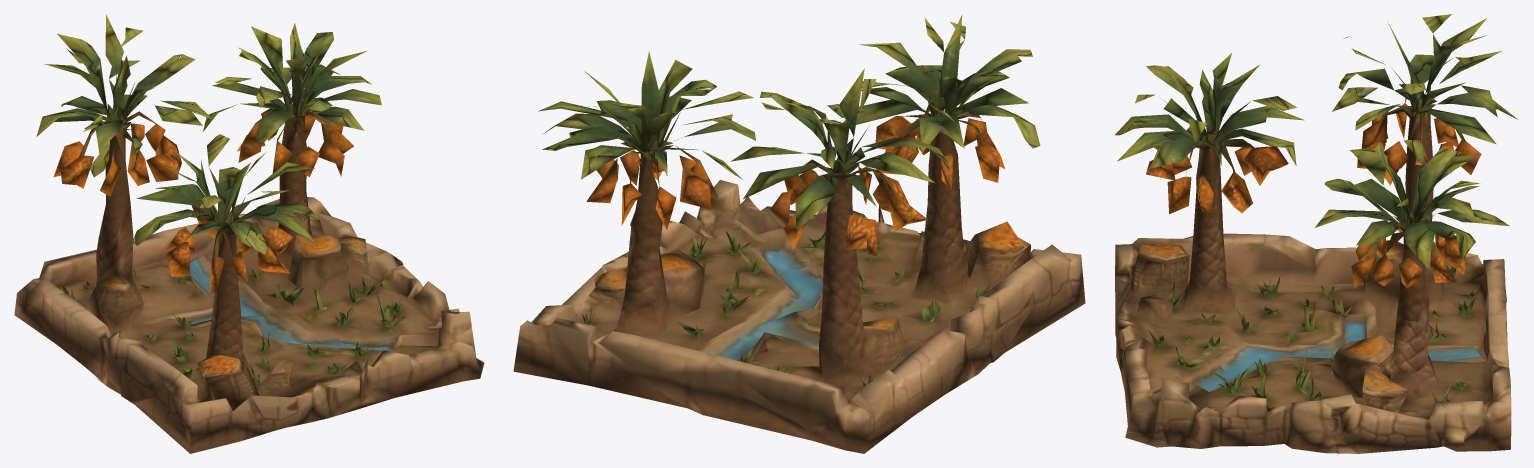
The model's file is farm.glb.
The picture shows the model from 3 angles, left to right: view 1: azimuth 30°, elevation 25°; view 2: azimuth 150°, elevation 25°; view 3: azimuth 270°, elevation 25°; orthographic projection. The views are drawn at different scales.
Parts seen in each view (by area): view 1: tripo_node_47f7e23c-4b03-4026-8510-93f691dd5bdf; view 2: tripo_node_47f7e23c-4b03-4026-8510-93f691dd5bdf; view 3: tripo_node_47f7e23c-4b03-4026-8510-93f691dd5bdf.
Boxes of the visible parts, x1,y1,x2,y2 form: tripo_node_47f7e23c-4b03-4026-8510-93f691dd5bdf: [14, 14, 484, 453]; tripo_node_47f7e23c-4b03-4026-8510-93f691dd5bdf: [513, 14, 1085, 453]; tripo_node_47f7e23c-4b03-4026-8510-93f691dd5bdf: [1115, 14, 1517, 453].
Bounding box in the file's own units: 0.9789 × 0.7836 × 0.9552.
1 material, 1 textured.
